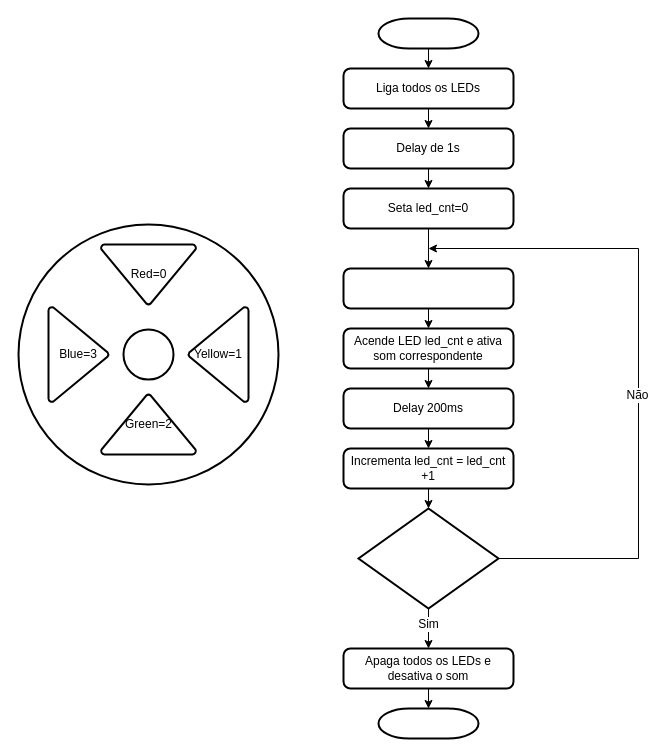
Image size: 665x756. Some labels were removed from this diagram. The centre of each missing label's shape, as x and y in pixels:
"Apaga todos LEDs e desativa som" belongs at (x=428, y=288).
"FIM" belongs at (x=428, y=723).
"INICIO" belongs at (x=428, y=33).
"led_cnt = 4?" belongs at (x=428, y=558).
"Start" belongs at (x=148, y=354).
